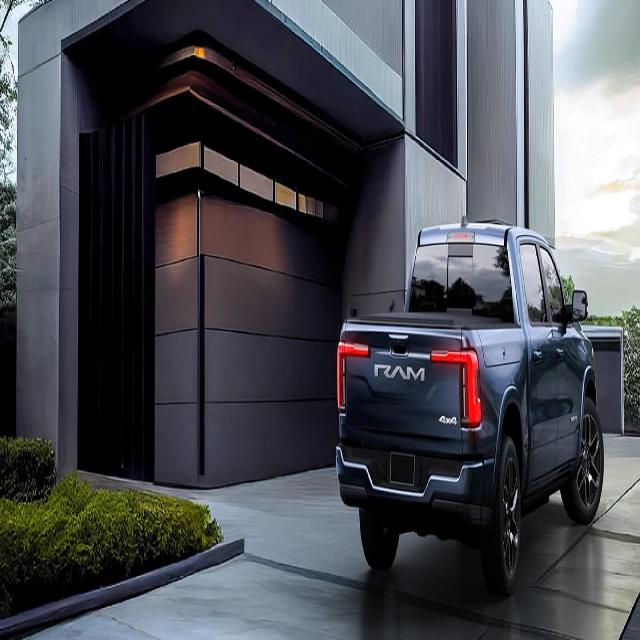truck: (326, 169, 616, 629)
